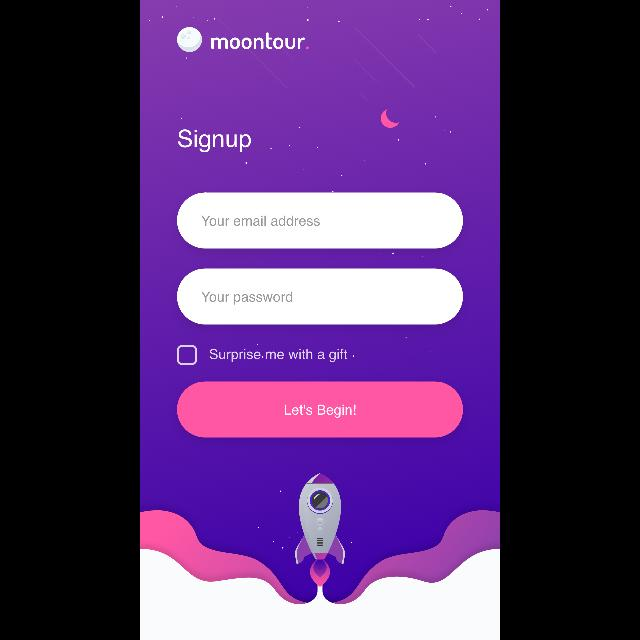backgroundimage: (140, 1, 500, 640)
checkbox: (177, 345, 197, 365)
input: (177, 193, 463, 249), (177, 268, 463, 324)
text: (210, 349, 348, 363), (178, 129, 252, 153), (211, 32, 305, 49), (202, 216, 320, 227), (202, 292, 292, 304)
textbutton: (177, 382, 463, 438)
